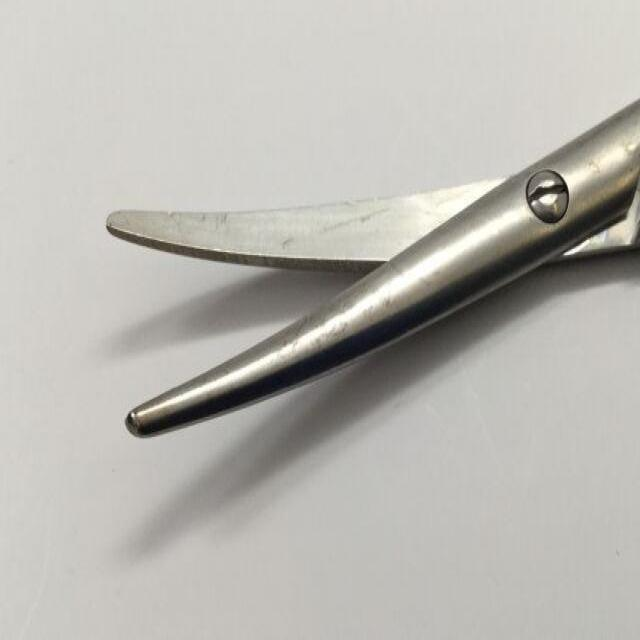Mayo_metz: (99, 98, 640, 446)
